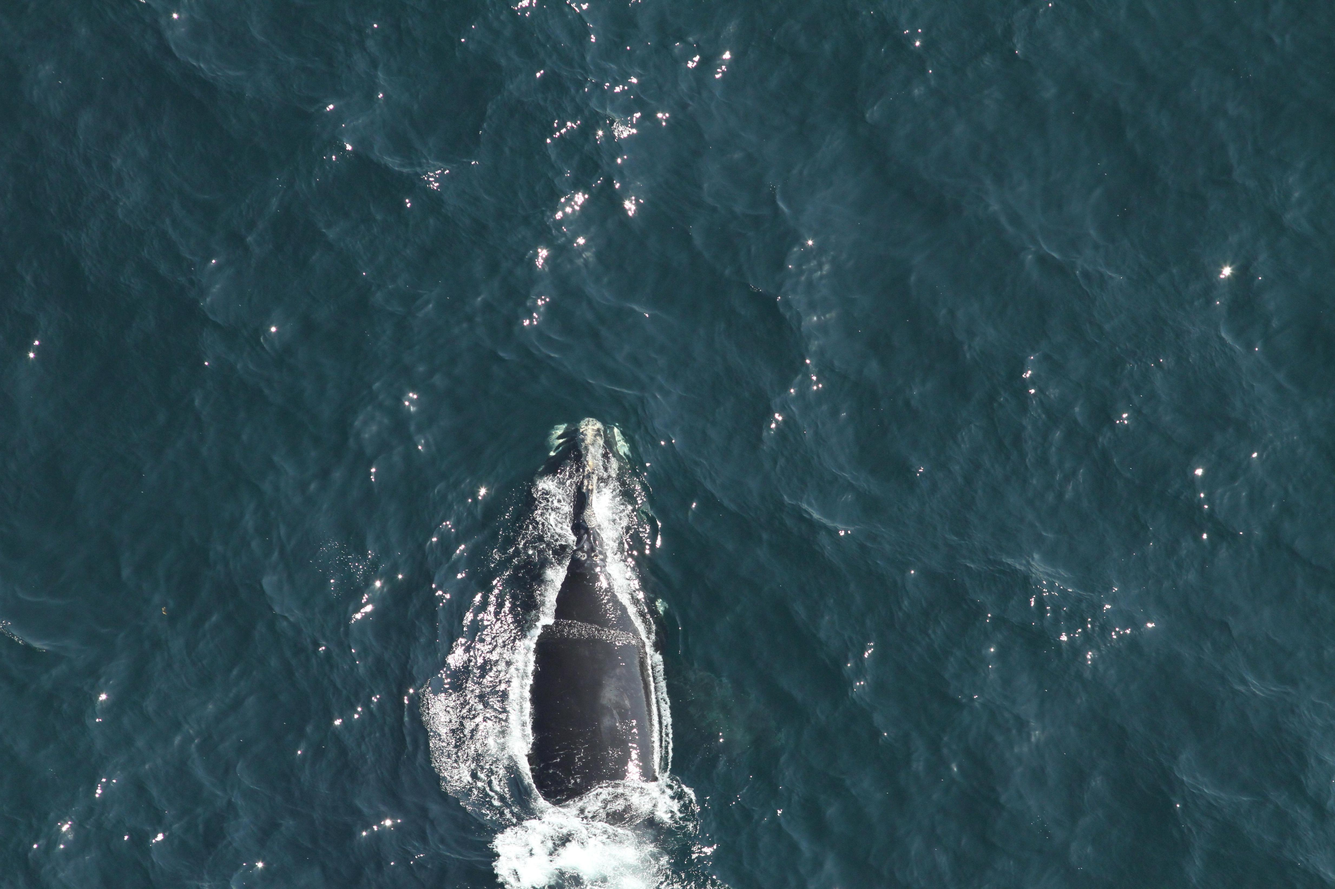whale: (495, 412, 684, 889)
